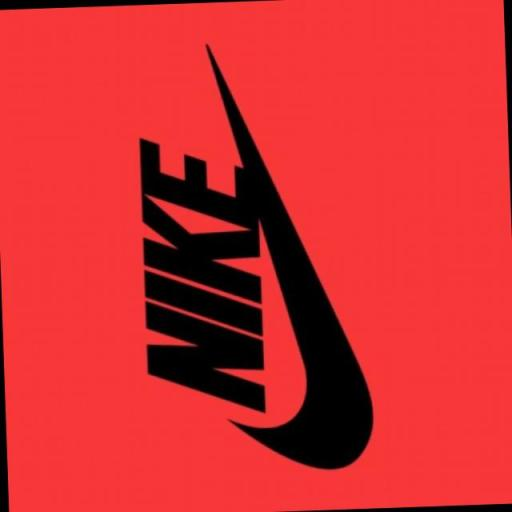Nike: (204, 35, 378, 474), (134, 126, 271, 420)
